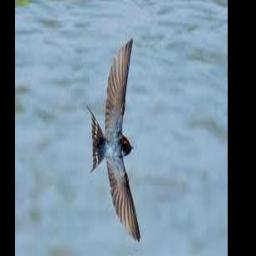Swallow: (84, 38, 140, 242)
